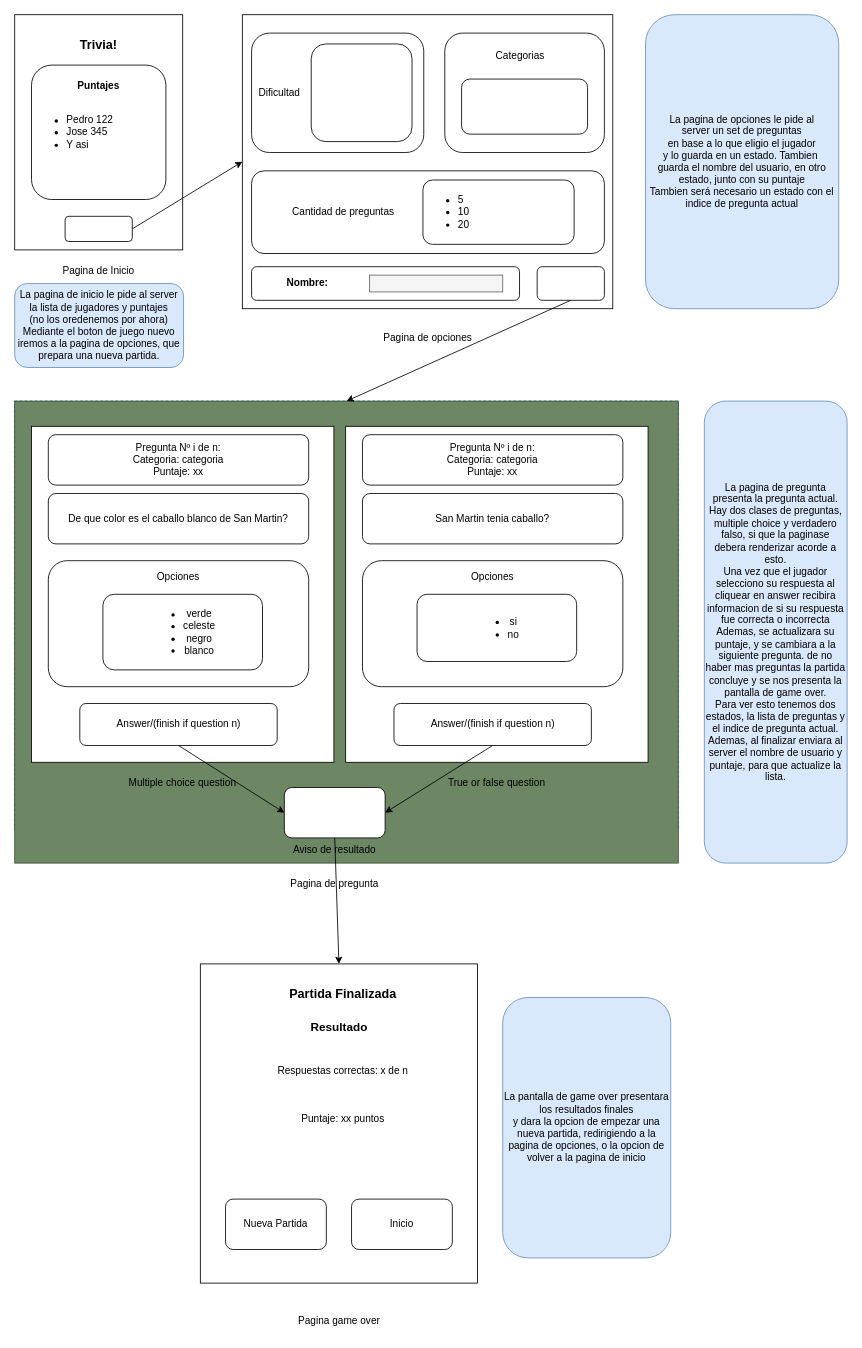
Image size: 862x1348. Some labels were removed from this diagram. Each missing label, with the centre of its shape:
"Correcto / incorrecto" goes at pixel 334 812.
"Cualquiera Alguna en especifico" goes at pixel 524 106.
"Easy Medium Hard" goes at pixel 361 92.
"Juego nuevo" goes at pixel 98 228.
"Start" goes at pixel 570 283.
